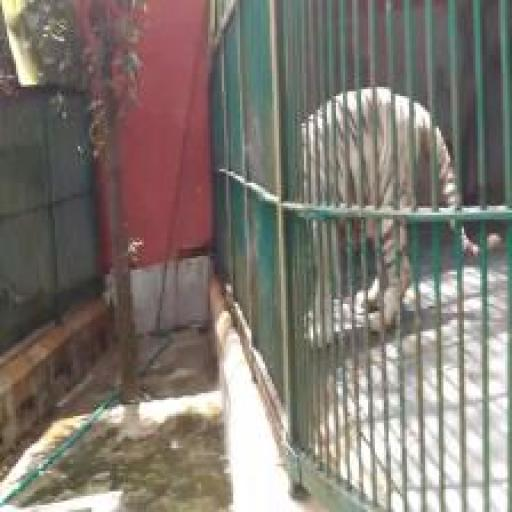Tiger: (300, 85, 482, 353)
